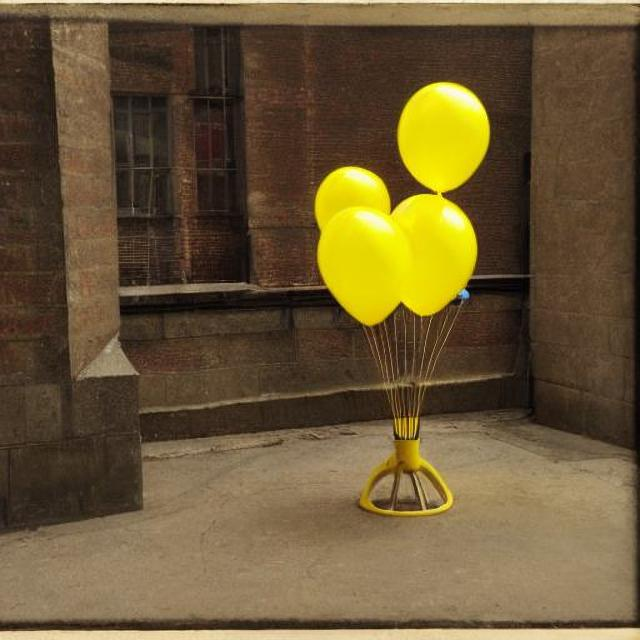balloon: (293, 62, 518, 329)
